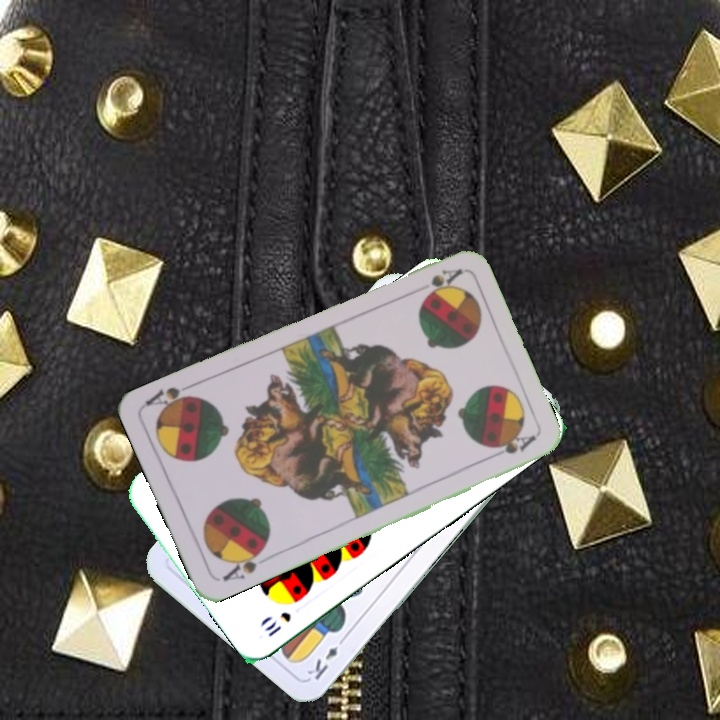EK: (303, 631, 350, 683)
S10: (260, 607, 294, 639)
SA: (218, 543, 273, 584), (408, 264, 465, 300)
